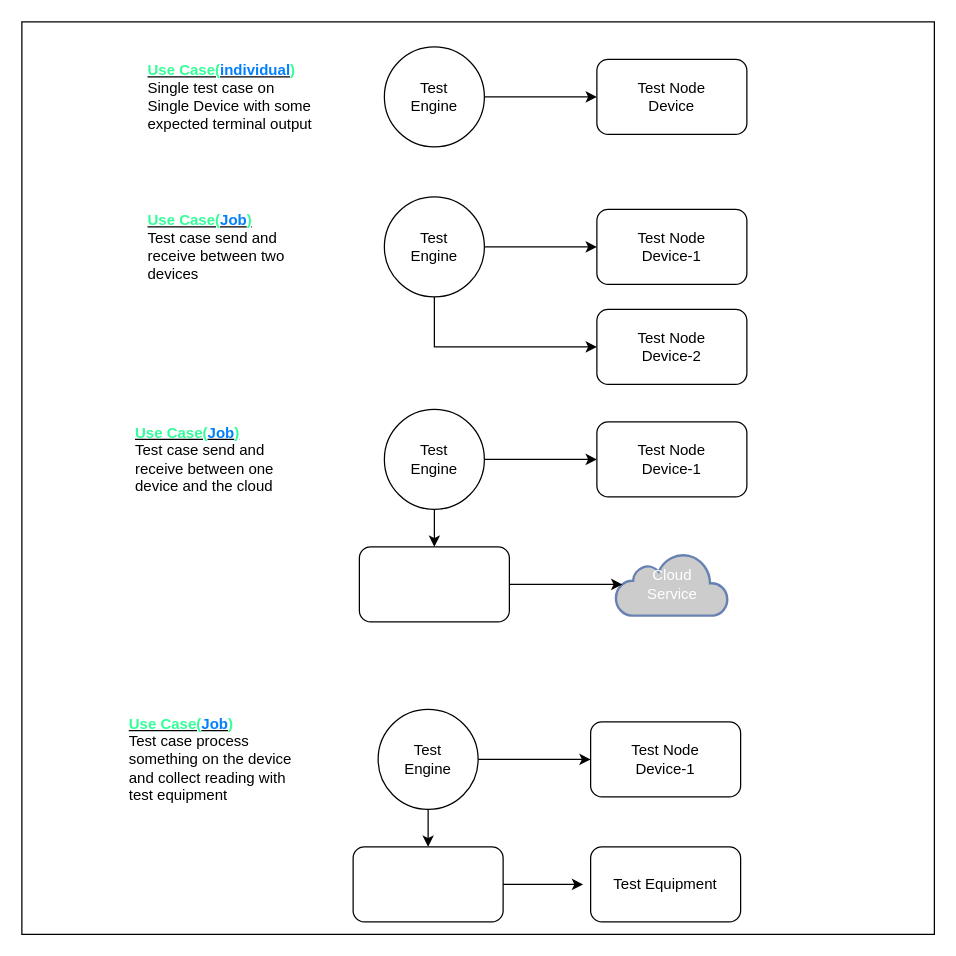
This 956x956 diagram has some shape labels left out. The shapes that lost their labels are listed below. From the top down, each one's box as (x1, y1, x2, y2) in pixels, then its label:
(358, 546, 509, 622): Host Process "PC-Client" to interact with the cloud service
(352, 846, 503, 922): Host Process "PC-Client" to interact with the test equipment
